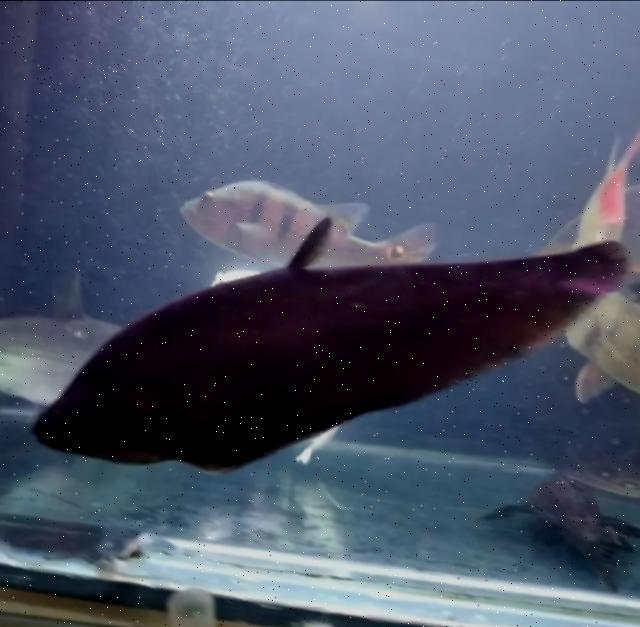Sirip Punggung: (276, 204, 360, 292)
